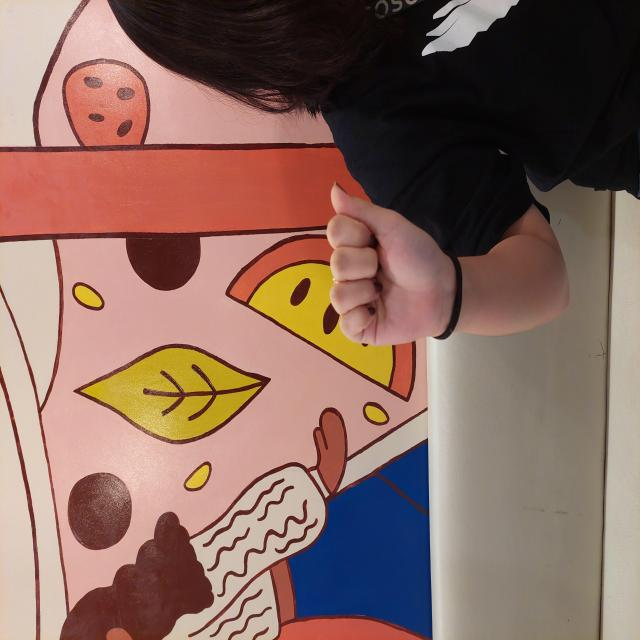A: (293, 324, 460, 450)
